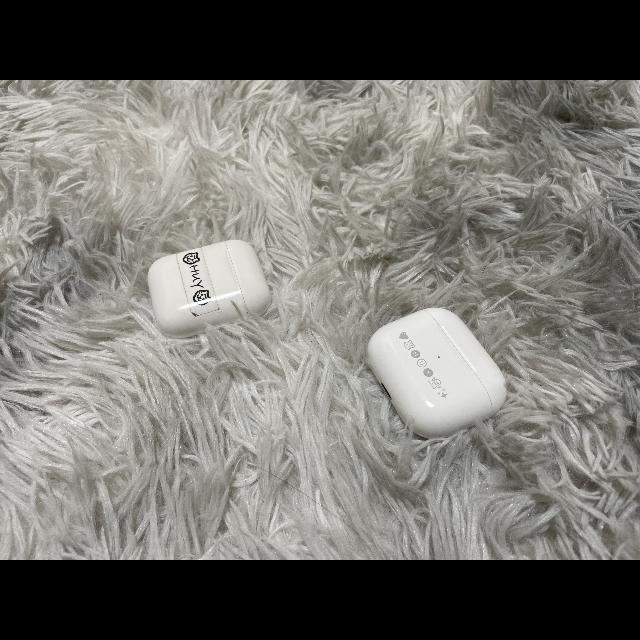airpod2: (146, 232, 274, 342)
airpod3: (358, 294, 518, 446)
